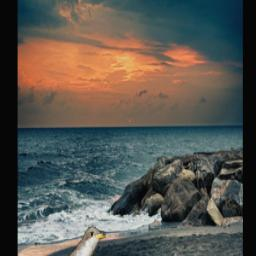Cuckoo: (65, 226, 106, 256)
